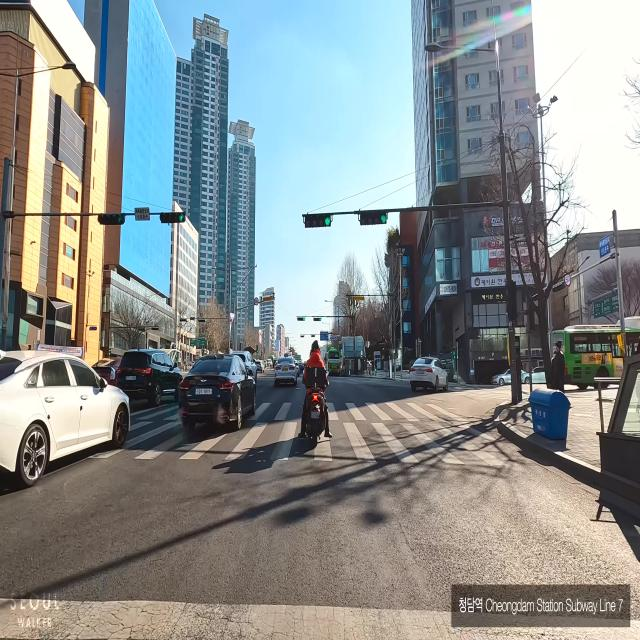Green Light: (324, 216, 331, 227), (117, 213, 122, 225), (381, 212, 386, 224), (179, 213, 184, 223)
